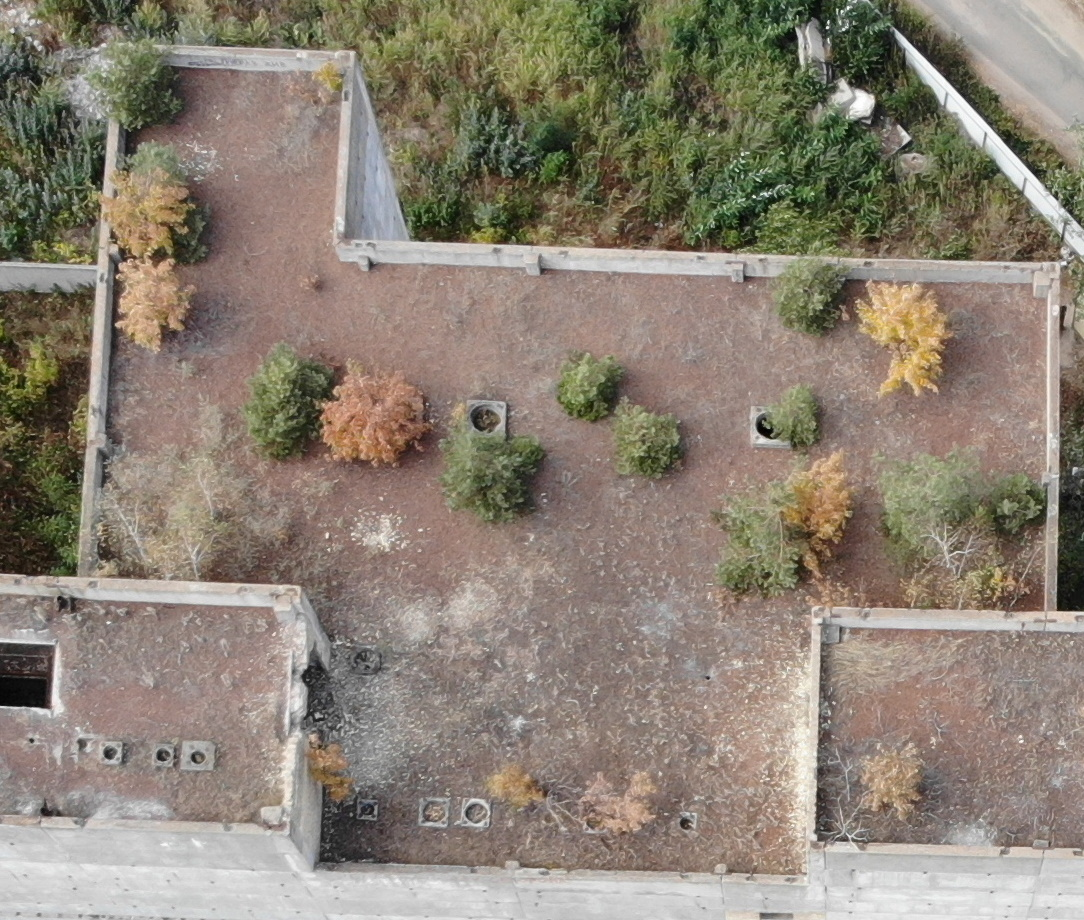tree: (310, 350, 443, 474), (893, 445, 1015, 578), (838, 274, 956, 401), (164, 459, 270, 593), (437, 416, 553, 524), (98, 159, 205, 262), (84, 46, 192, 141), (237, 348, 327, 461), (103, 256, 198, 356), (712, 491, 813, 579), (785, 441, 861, 551), (766, 258, 851, 351), (558, 759, 658, 838), (98, 451, 156, 578), (292, 740, 374, 824), (539, 343, 618, 430), (603, 395, 682, 482), (857, 742, 924, 826), (757, 380, 828, 452), (491, 765, 569, 820)
